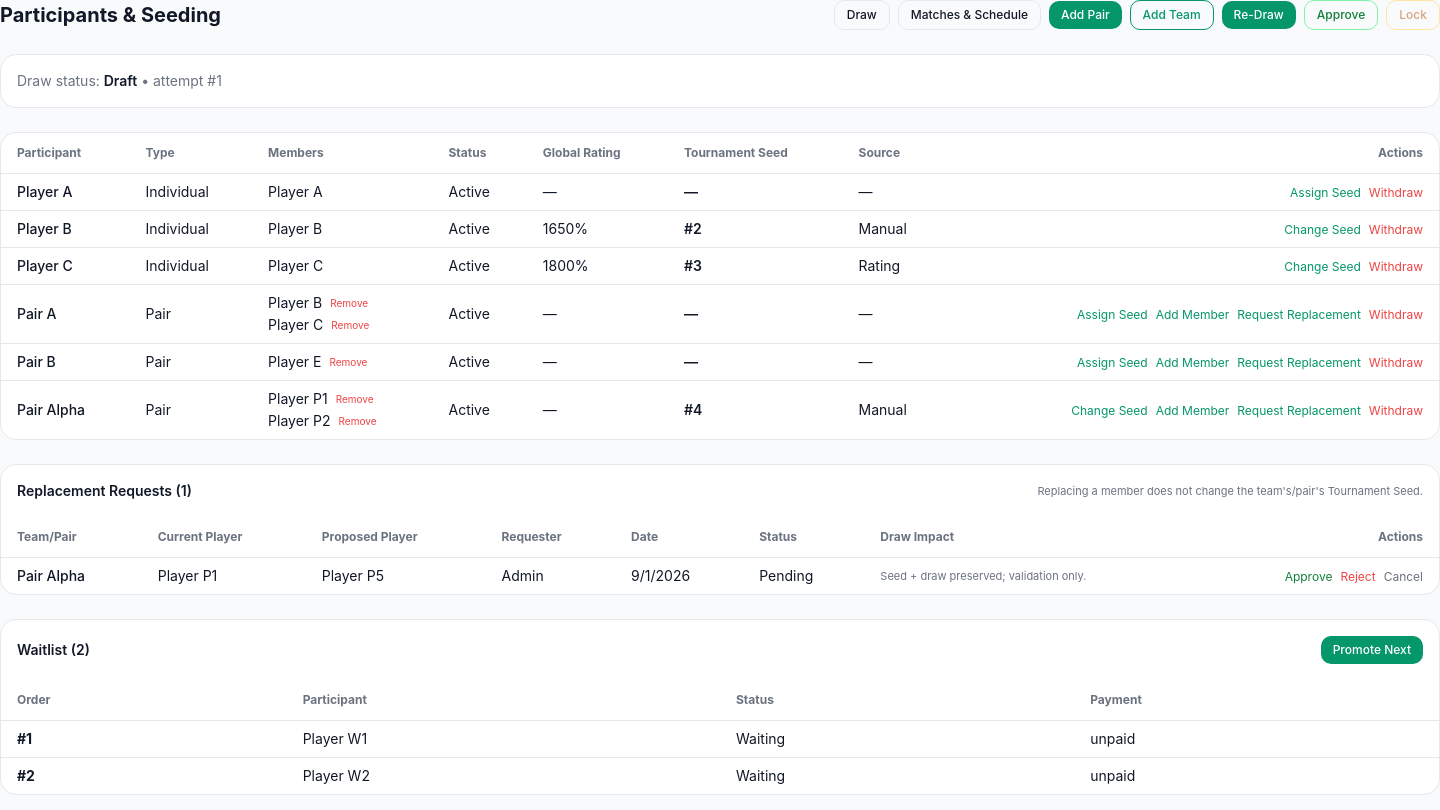
Test: B4 — doubles pairing player picker (name search, competition scope) › excludes players active in the SELECTED competition only
The image size is (1440, 810).
What coordinates should you click on to do the following:
click the button "Add Pair"
I would click on:
 (1085, 15)
Its box is [1049,1,1122,29].
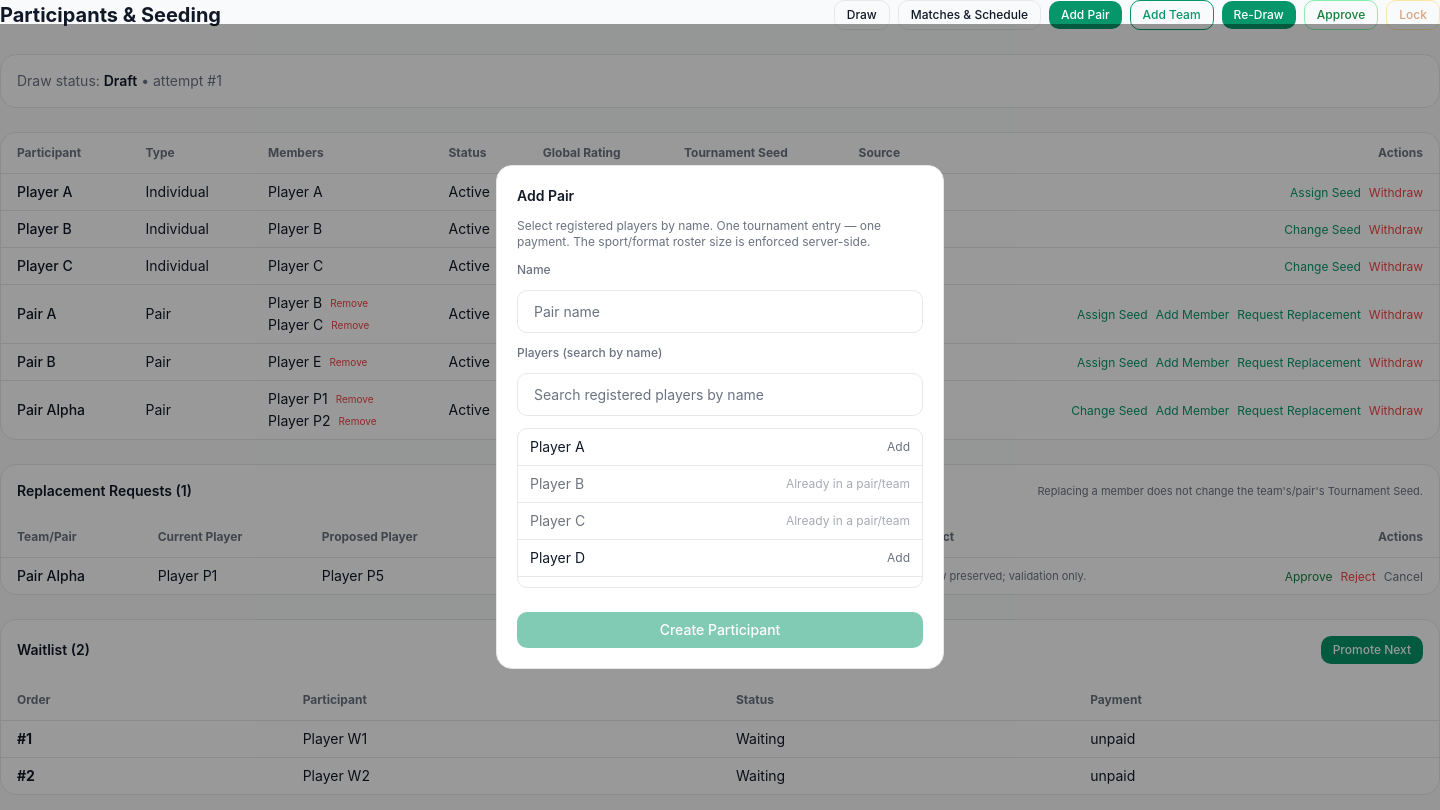
expect the search field labelled "Players (search by name)" is shown: met, box [517,373,923,416]
expect the 1st text "Already in a pair/team" is shown: met, box [786,476,910,492]
expect the button "Player B Already in a pair/team" is disabled: met, box [518,466,922,502]
